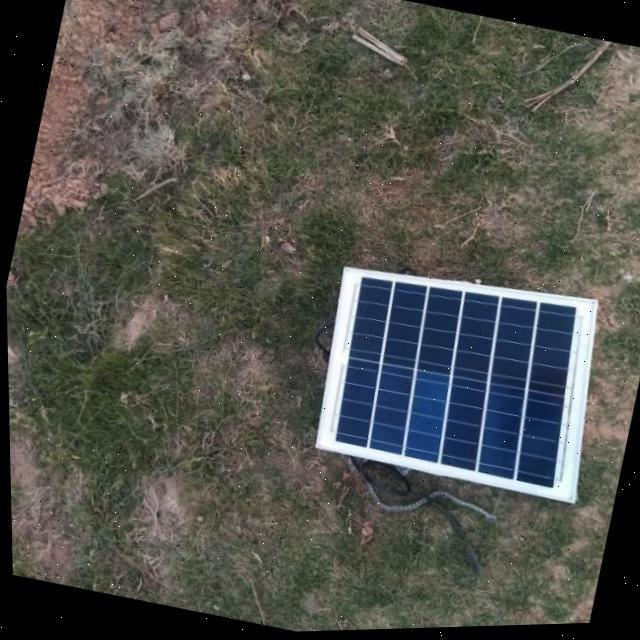Normal Solar Panel: (307, 250, 612, 510)
